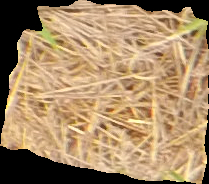soil: (2, 3, 207, 182)
